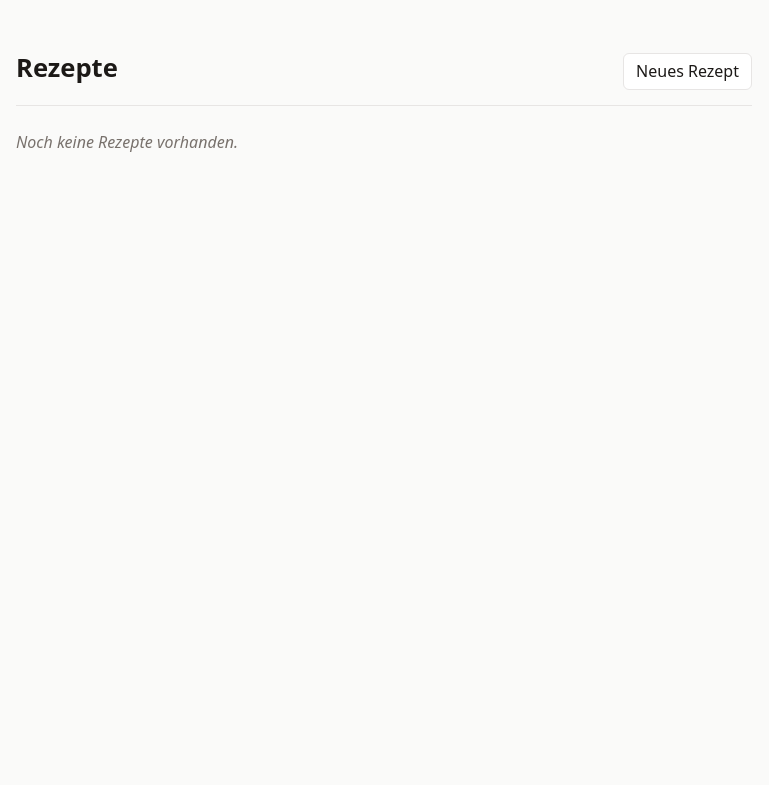
Test: App › should keep the form open and show field errors when the backend rejects the input
What coordinates should you click on to do the following:
click the link "Neues Rezept"
I would click on:
 (688, 71)
Its box is left=623, top=52, right=752, bottom=90.
(page scrolled)
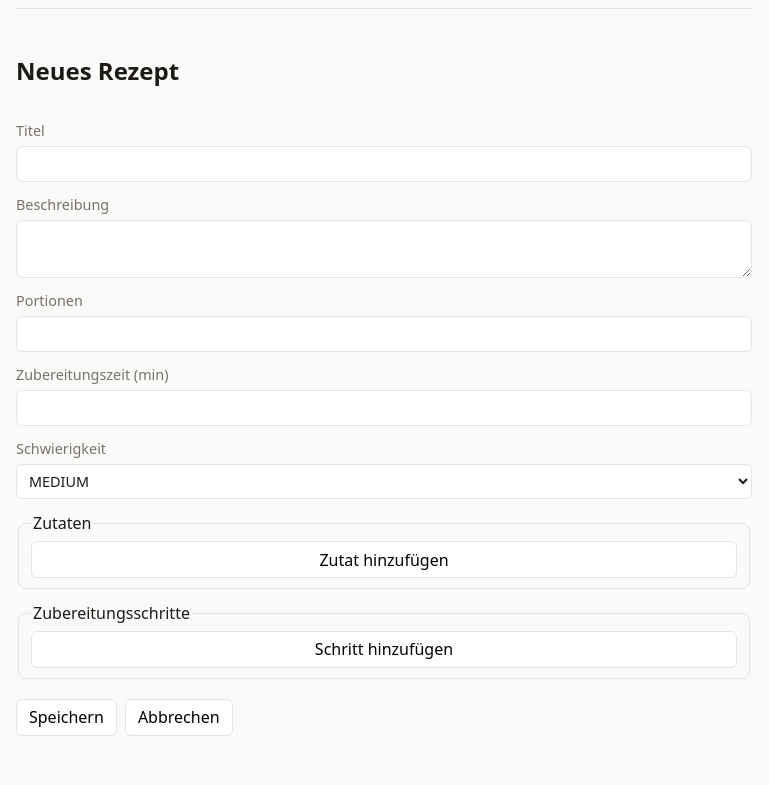
What coordinates should you click on to do the following:
click the button "Speichern"
I would click on:
 (66, 718)
Its box is left=16, top=699, right=117, bottom=736.
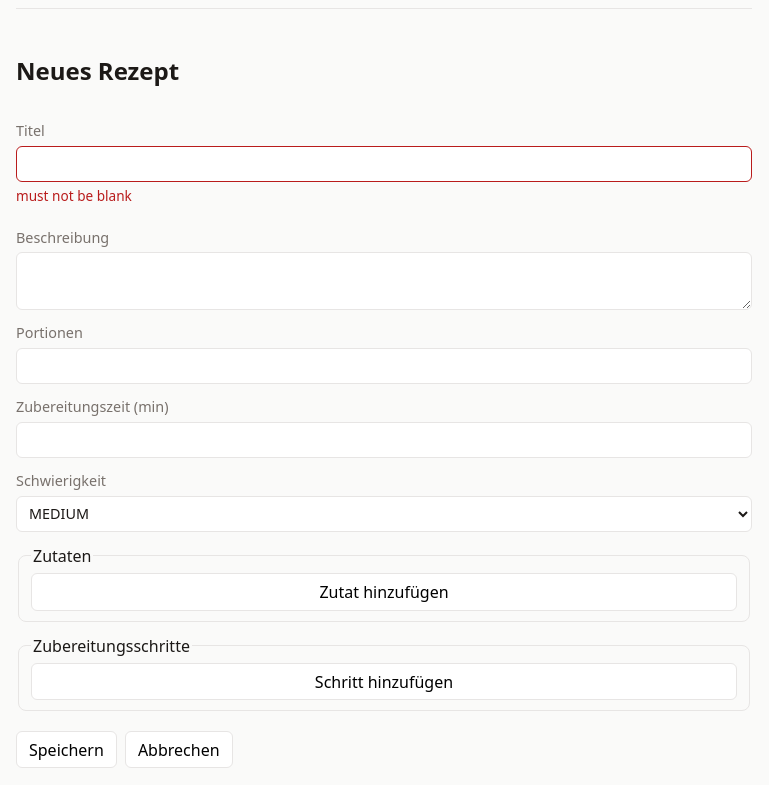
Expected: the heading "Neues Rezept" is shown, left=16, top=54, right=179, bottom=87
Now the text "must not be blank" is shown, box left=16, top=186, right=132, bottom=206
